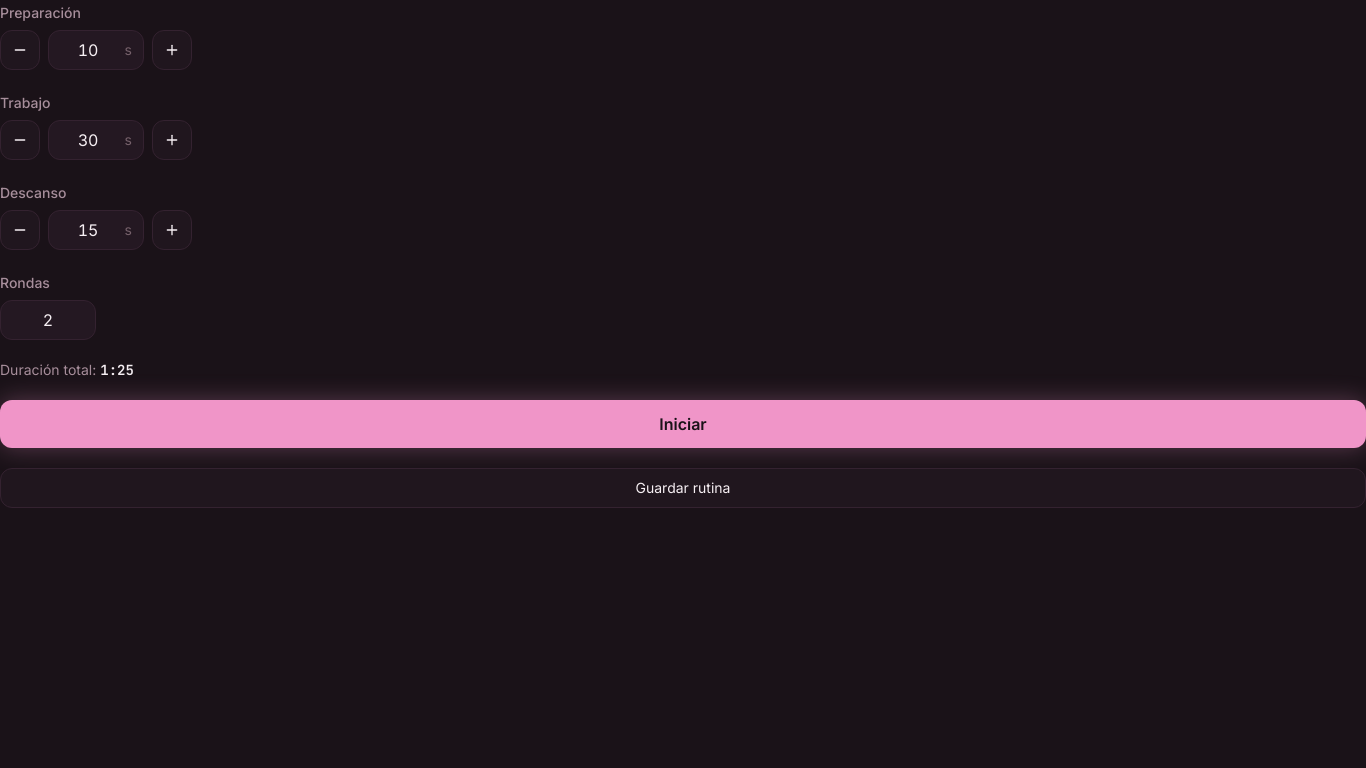
it: ClasicoConfigScreen — Guardar rutina (spec routines) › guarda la configuración actual con los valores exactos del formulario
This screenshot has width=1366, height=768.
Replace the text in the field labelled "Trabajo" with "45": (96, 140) [48,120,144,160]
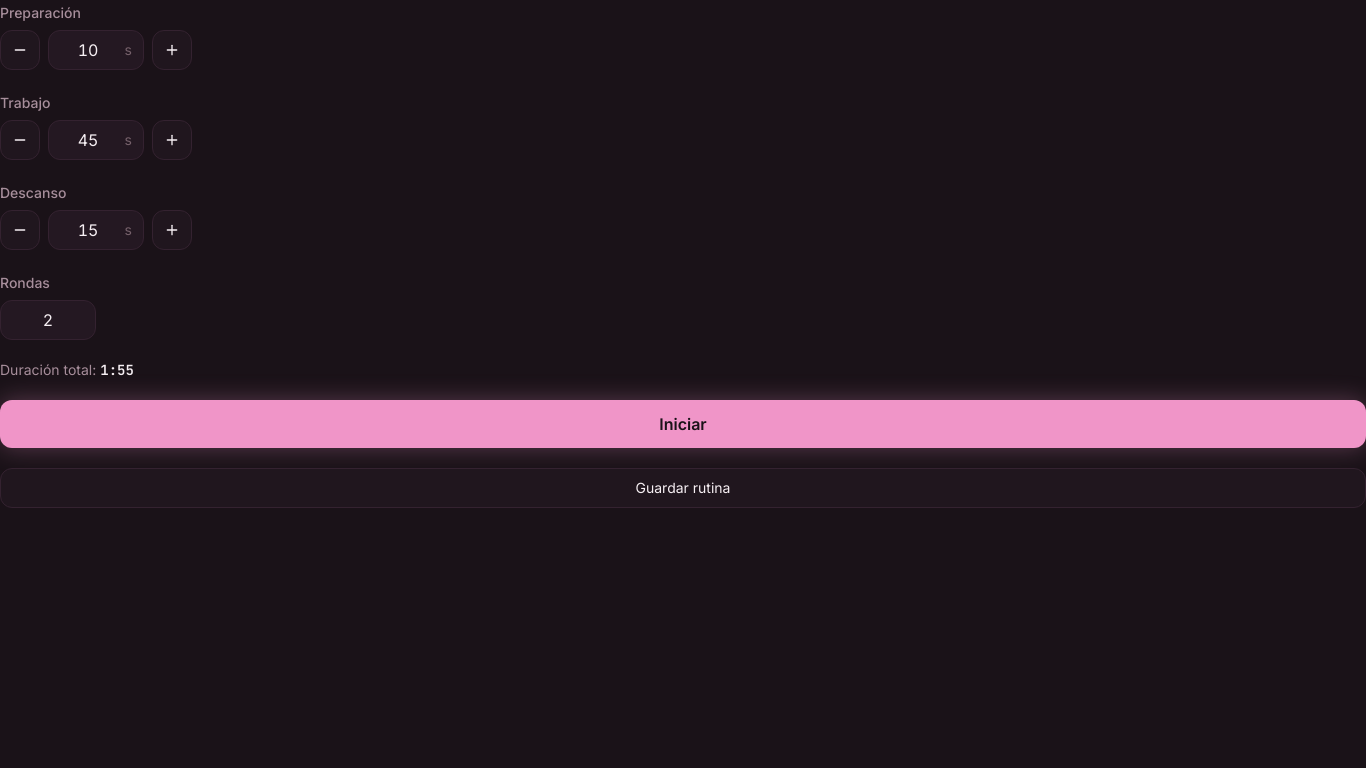
Click the button "Guardar rutina": (683, 488) [0,468,1365,508]
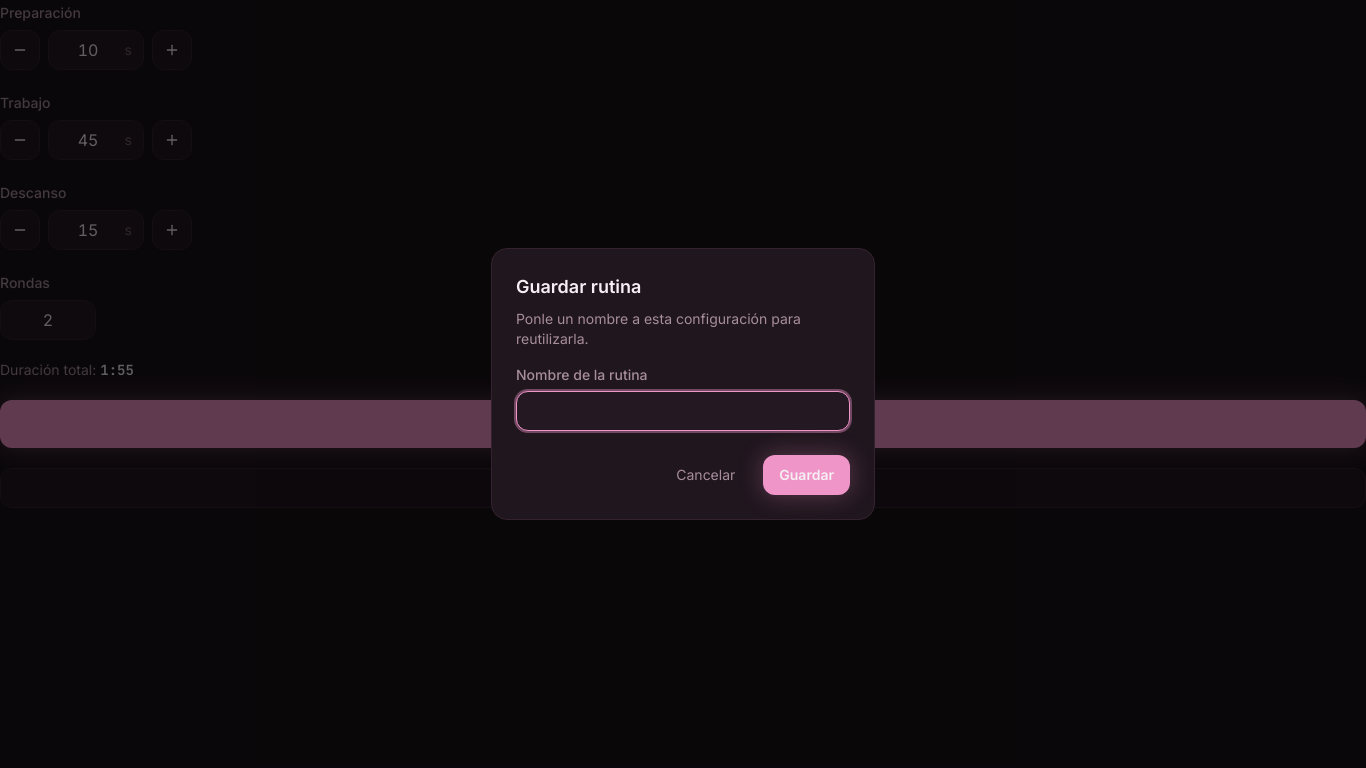
In the field labelled "Nombre de la rutina": (683, 411) [516,391,850,431], type "Piernas"
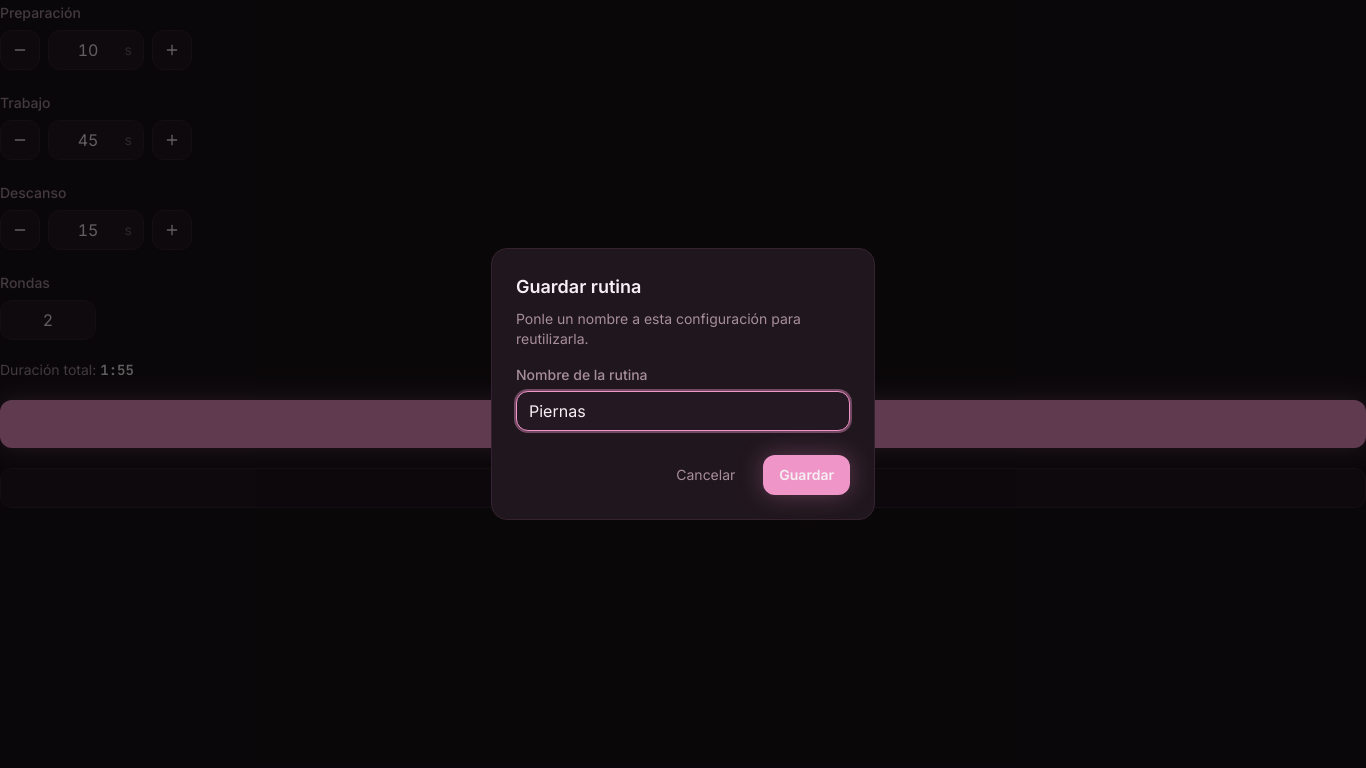
Click the button "Guardar": (807, 475) [763,455,850,495]
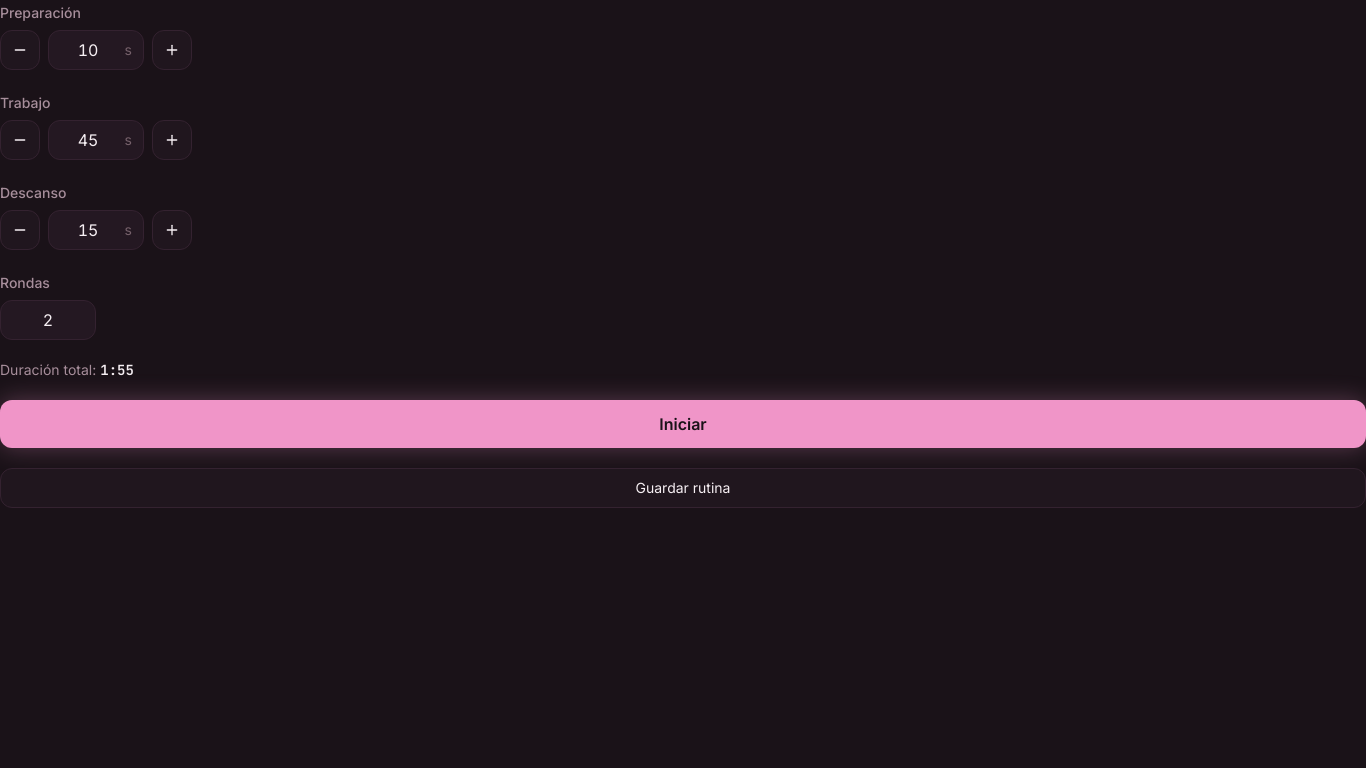
Expected: the dialog is gone
